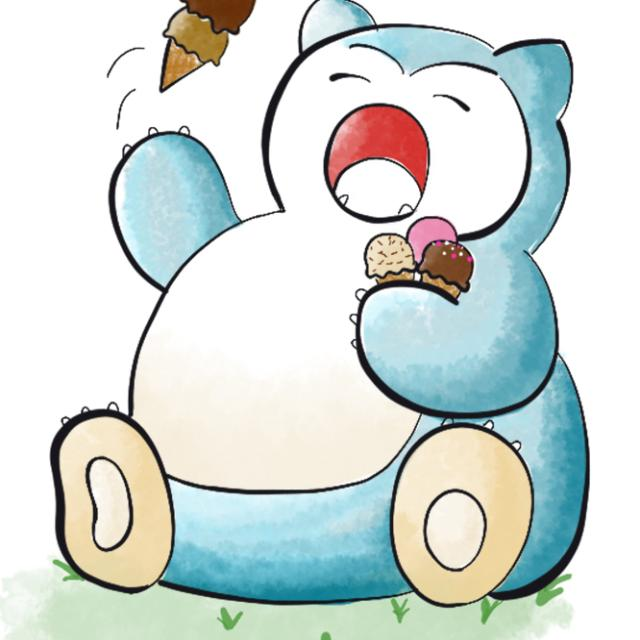Snorlax: (69, 29, 572, 592)
